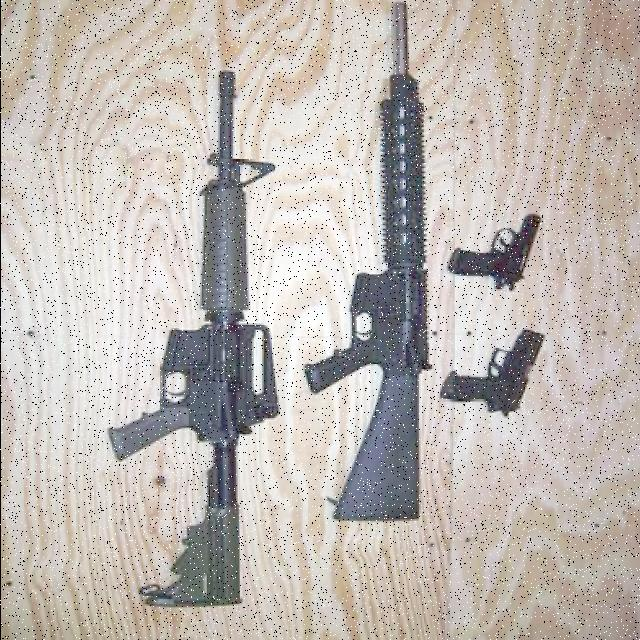Guns: (439, 328, 545, 420), (445, 213, 541, 292)
Rifle: (105, 70, 280, 609), (302, 0, 431, 522)
